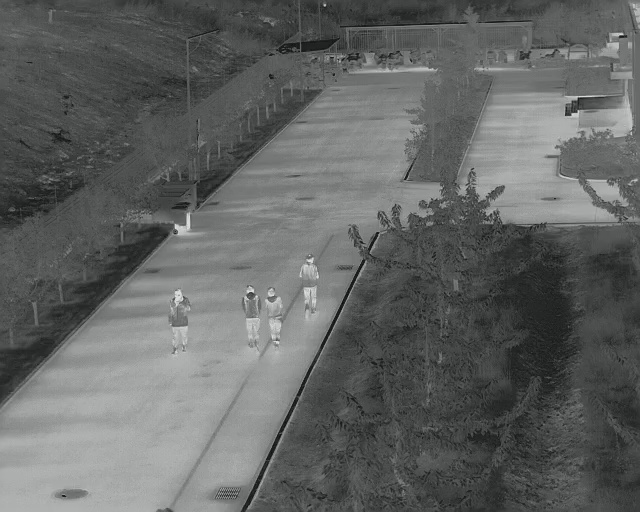person: (166, 288, 192, 355), (239, 284, 260, 350), (298, 254, 319, 319), (263, 286, 284, 350)
